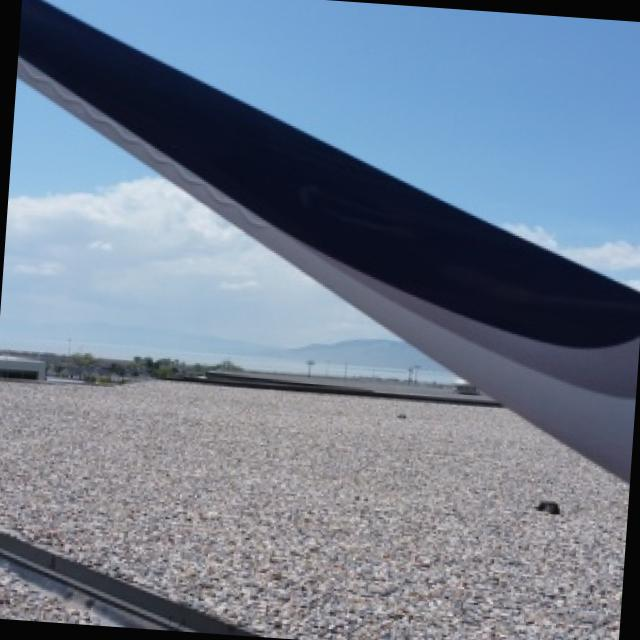healthy: (0, 382, 627, 640)
